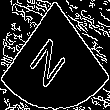N_NE: (31, 22, 79, 88)
